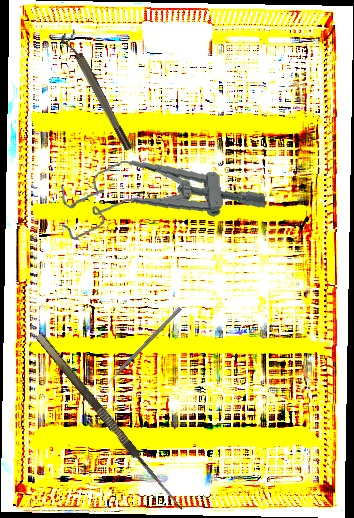Fixation Ring: (58, 28, 135, 155)
Hook Surgical: (35, 324, 194, 514)
Pusher: (99, 306, 183, 392)
Speculum: (57, 149, 267, 241)
